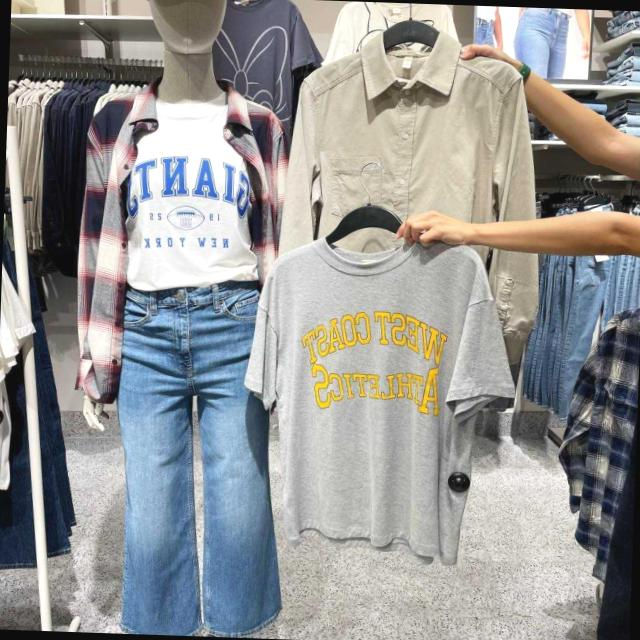Tshirt: (244, 231, 527, 557)
pants: (101, 280, 280, 638)
shirt: (271, 27, 546, 236)
